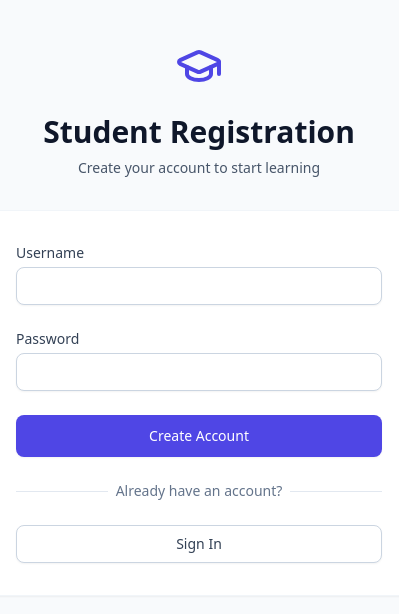
Test case: Auth pages › student registration shows error
In the field: (199, 286) [16,267,382,305], type "new"
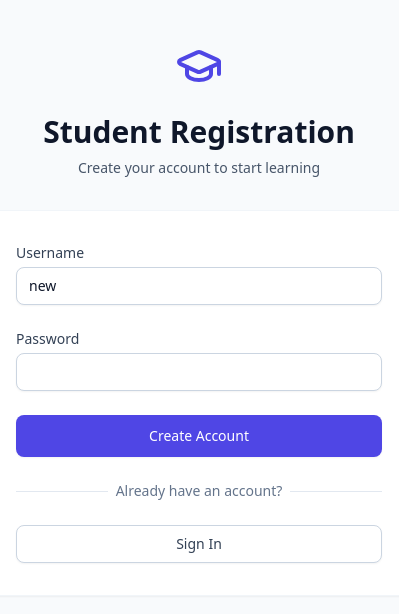
In the password field: (199, 372) [16,353,382,391], type "pass"
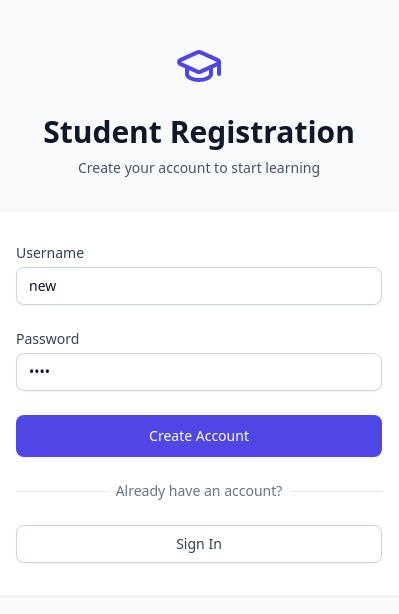
Click the button "Create Account": (199, 436) [16,415,382,457]
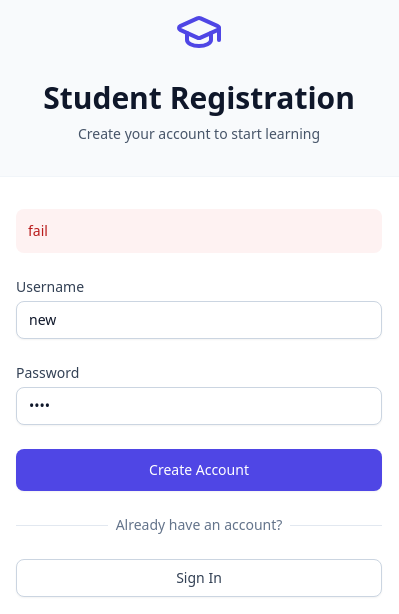
expect the text "fail" is shown: met, box [16,209,382,253]
